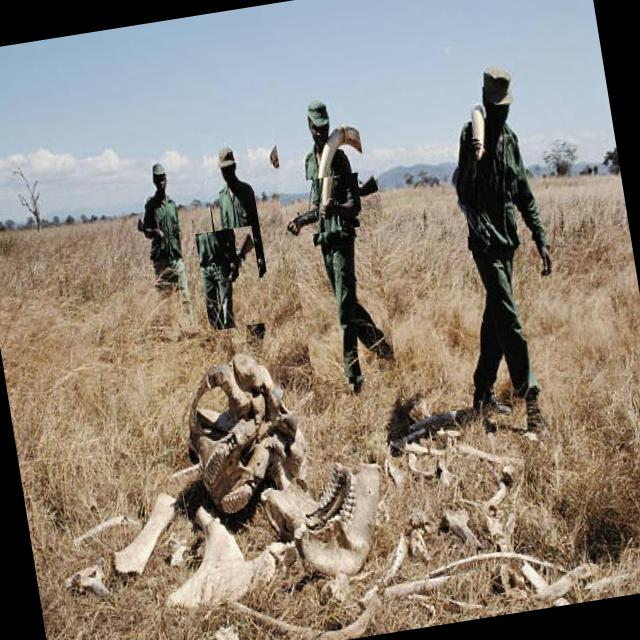animal: (77, 338, 416, 612)
ranger: (398, 42, 610, 431), (275, 70, 425, 328), (168, 101, 298, 303), (105, 128, 228, 289)
